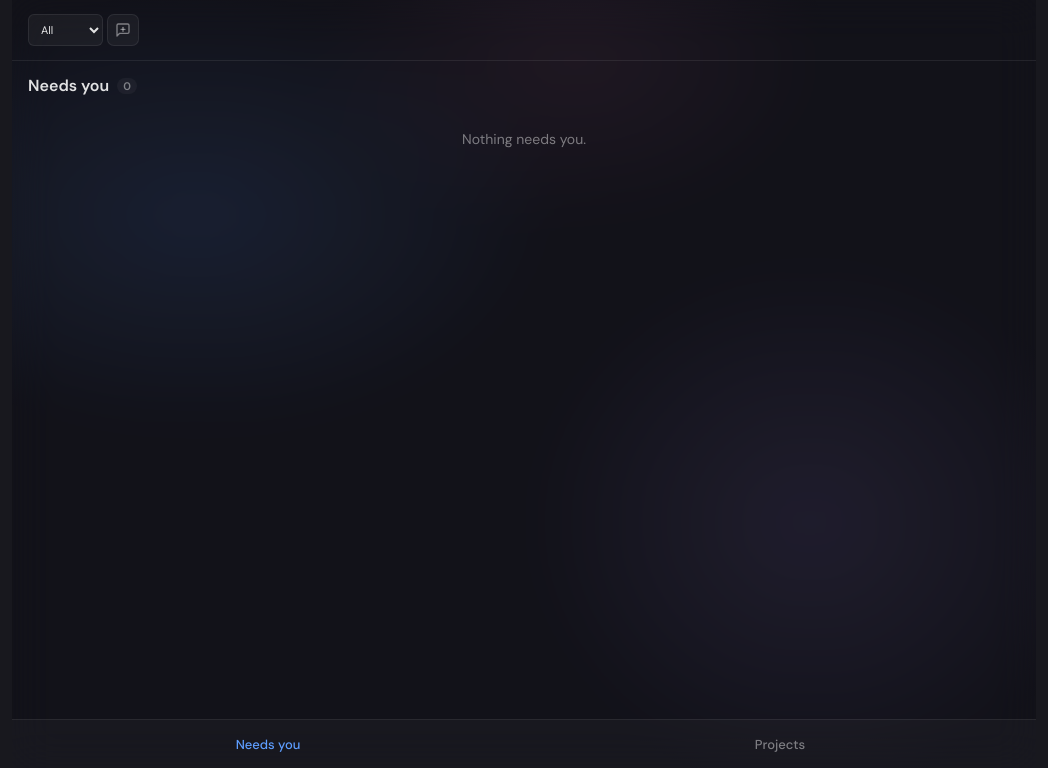
Test: on a phone: true › rolls a grandchild that needs the user up to its collapsed grandparent
The width and height of the screenshot is (1048, 768).
Click the button with class "home-tab" showing "Projects" at (780,744), box [524,720,1036,767]
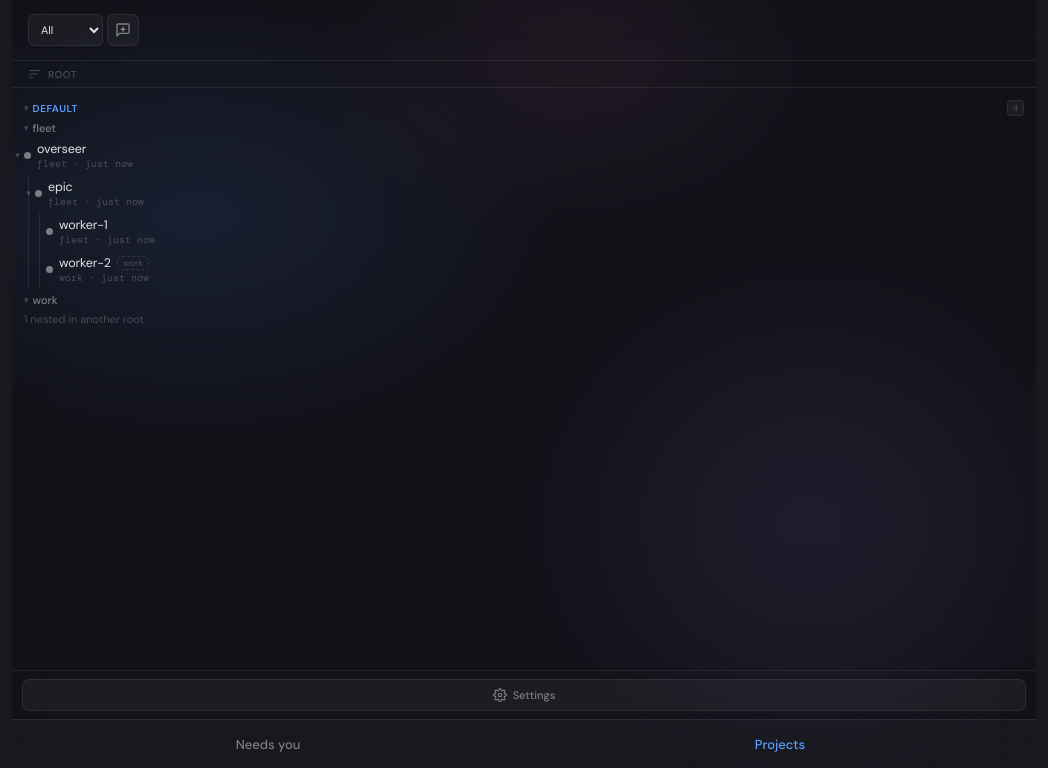
Click the button "▾" next to "overseer" at (18,156), box [12,137,23,174]
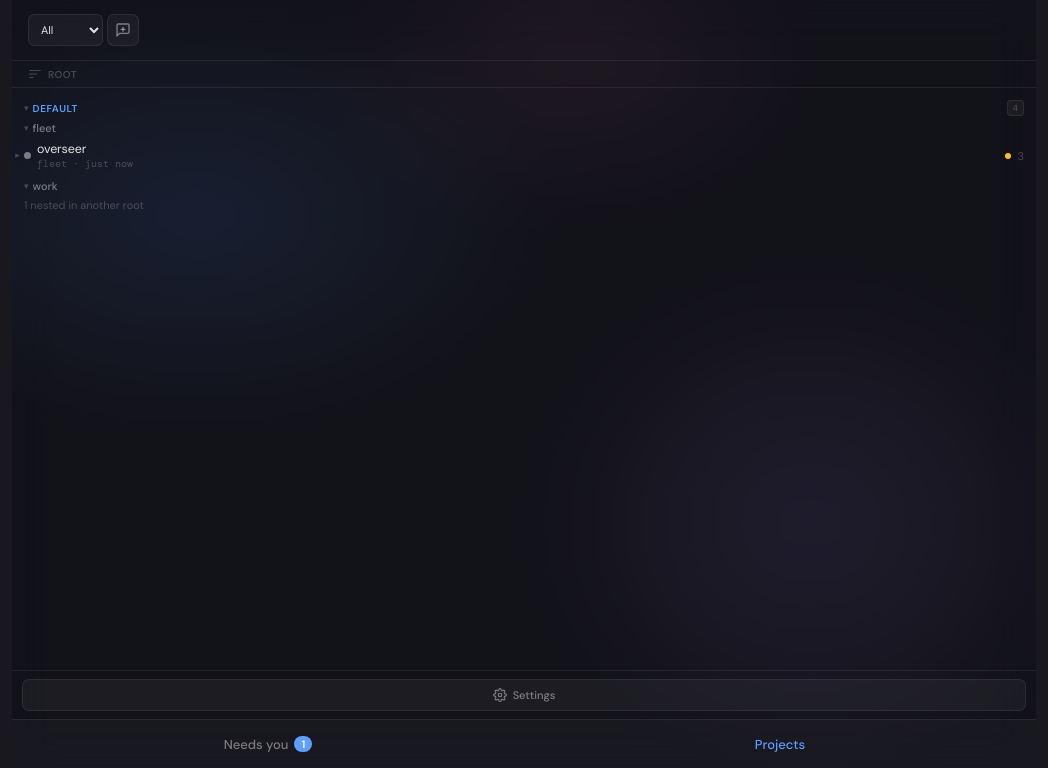
Now the element named "needs you" is shown, box [1006,152,1012,158]
